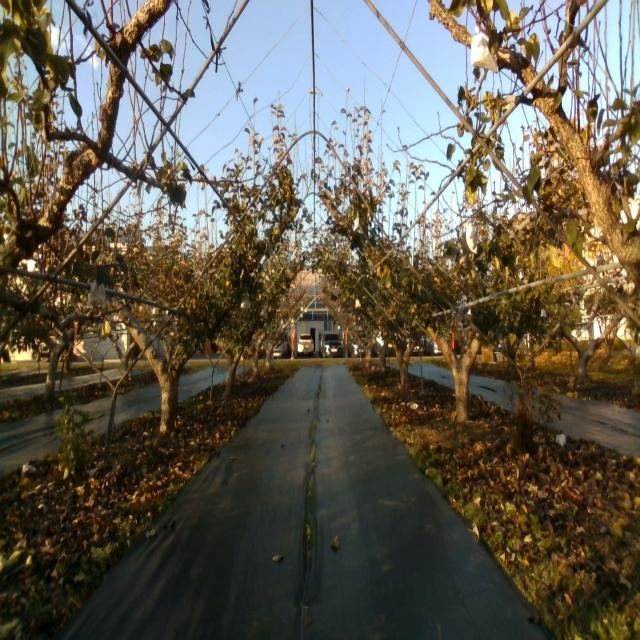pearbags: (472, 25, 498, 73), (88, 280, 106, 308), (466, 223, 478, 254)
